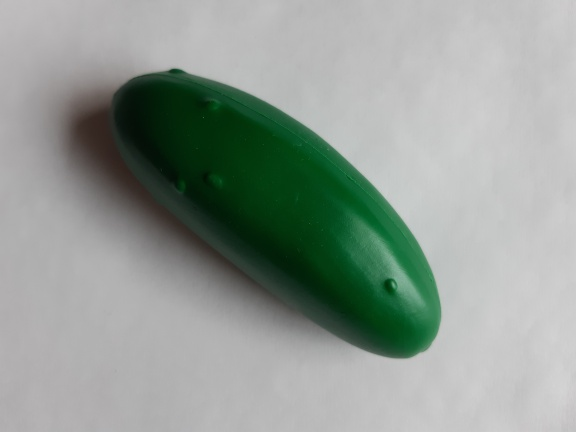cucumber: (98, 56, 449, 372)
